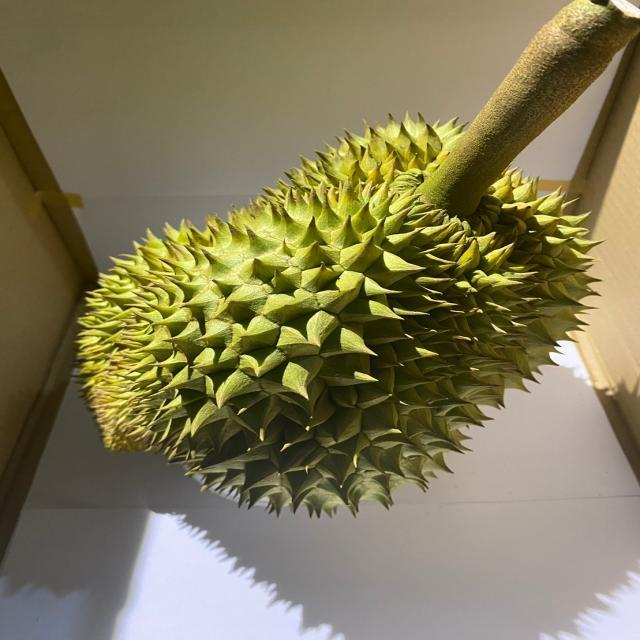immature: (77, 113, 605, 523)
